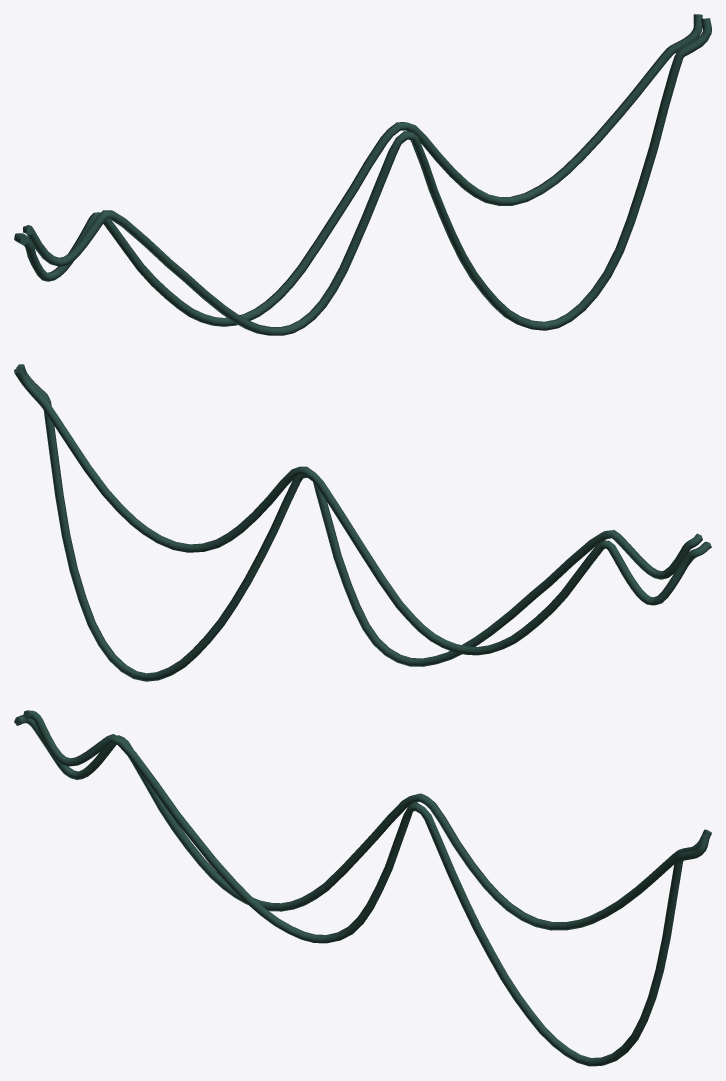
Rendered from CableHanging_Thick_05.glb.
3 renders of one model, top to bottom at view 1: azimuth 30°, elevation 25°; view 2: azimuth 150°, elevation 25°; view 3: azimuth 330°, elevation 25°, orthographic. The views are drawn at different scales.
Parts seen in each view (by area): view 1: CableHanging_Thick_05.001; view 2: CableHanging_Thick_05.001; view 3: CableHanging_Thick_05.001.
Boxes of the visible parts, x1,y1,x2,y2 form: CableHanging_Thick_05.001: (14, 14, 711, 335); CableHanging_Thick_05.001: (14, 364, 711, 681); CableHanging_Thick_05.001: (14, 710, 711, 1066).
Bounding box in the file's own units: 4.49 × 1.75 × 0.4396.
